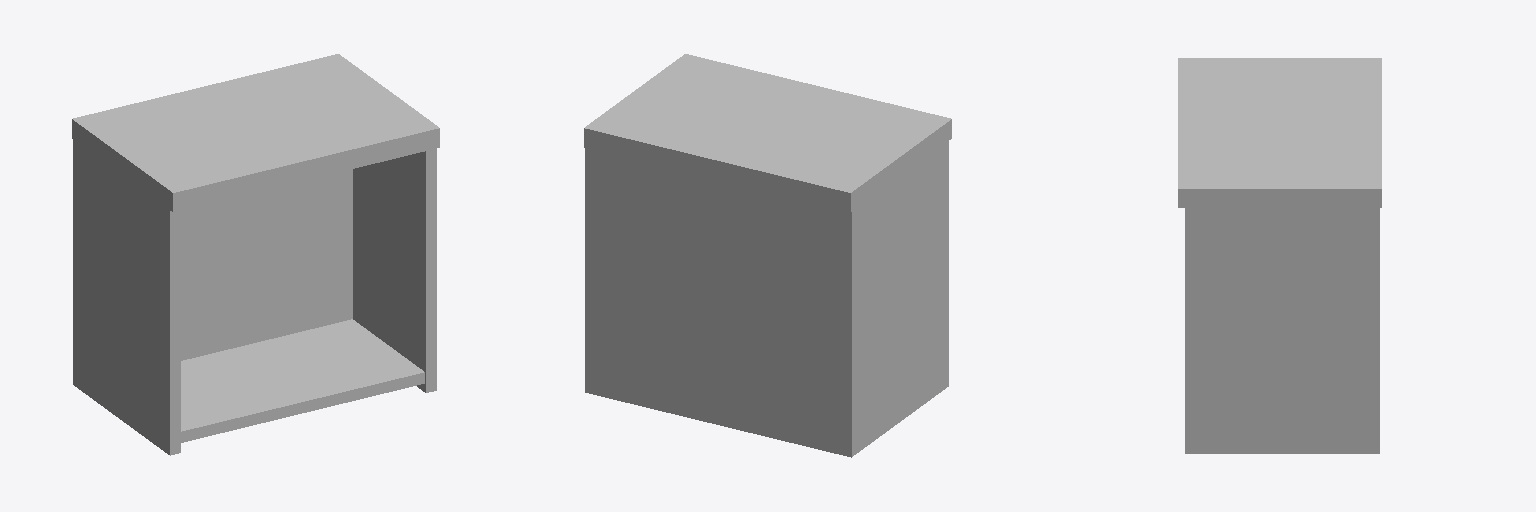
The model's file is Office_CounterB1.obj.
3 renders of one model, left to right at view 1: azimuth 30°, elevation 25°; view 2: azimuth 150°, elevation 25°; view 3: azimuth 270°, elevation 25°, orthographic.
Visible parts, largest first — view 1: Office_CounterB1; view 2: Office_CounterB1; view 3: Office_CounterB1.
Boxes of the visible parts, <box> form: Office_CounterB1: <box>72,54,439,455</box>; Office_CounterB1: <box>584,54,951,457</box>; Office_CounterB1: <box>1178,58,1381,453</box>.
Size of the model in its own units: 1 by 0.949 by 0.6595.